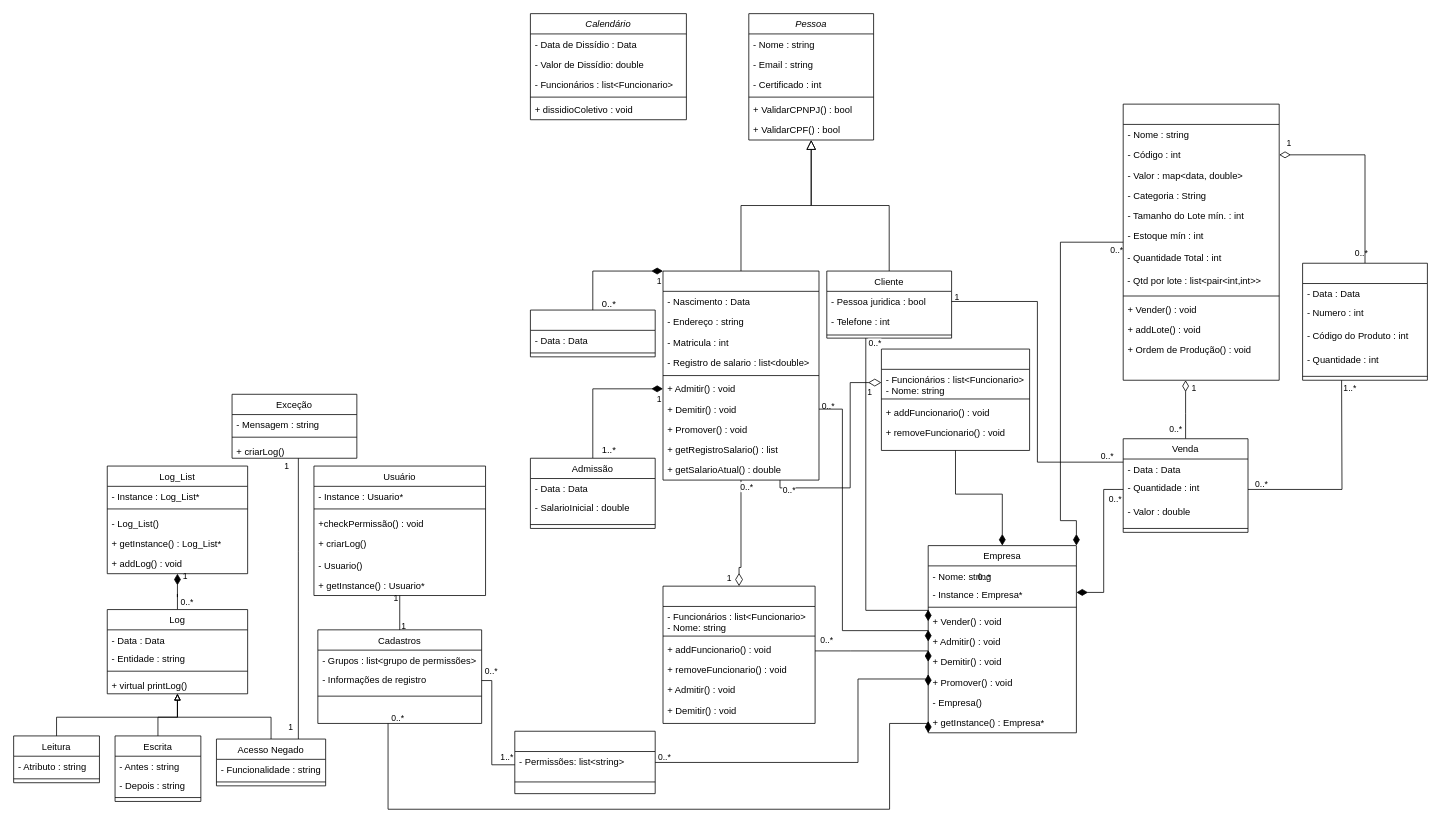
Some shapes in this 1441 by 834 pixel diagram are drawn without their labels. The box of each missing label's shape, as (x1, y1, x2, y2) in pixels:
Cargo: (881, 348, 1030, 450)
Demissão: (530, 309, 655, 357)
Departamento: (662, 585, 815, 723)
Funcionario: (662, 270, 819, 480)
Grupo de Permissões: (514, 730, 655, 794)
Lote: (1302, 262, 1427, 380)
Produto: (1122, 103, 1279, 380)
